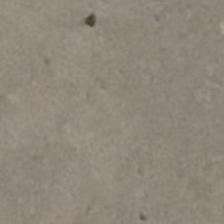Non_Crack: (8, 34, 208, 186)
